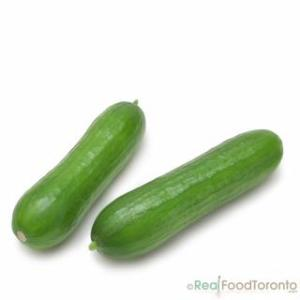cucumber: (91, 126, 286, 258), (11, 98, 147, 249)
